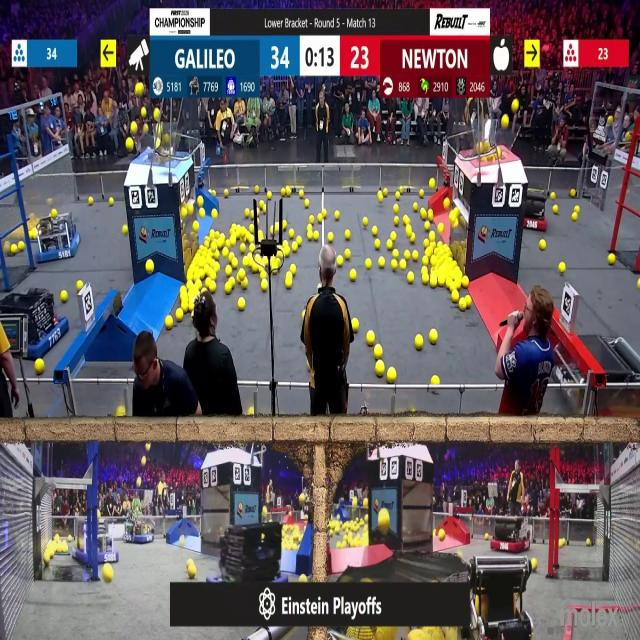ball_airborne: (136, 84, 144, 98), (127, 138, 135, 151), (513, 100, 520, 113), (501, 114, 508, 127), (131, 121, 138, 133), (153, 109, 159, 121), (140, 456, 147, 466), (140, 108, 147, 117), (155, 138, 161, 146), (137, 479, 142, 488), (299, 493, 304, 502), (143, 126, 148, 134)
ball_ground: (103, 564, 113, 581), (376, 360, 386, 375), (387, 366, 396, 381), (35, 359, 44, 373), (365, 332, 373, 347), (416, 336, 424, 351), (271, 260, 281, 272), (187, 564, 195, 578), (375, 346, 383, 359), (146, 262, 154, 275), (285, 276, 292, 290), (429, 332, 437, 344), (238, 300, 246, 312), (238, 269, 246, 281), (167, 316, 174, 329), (447, 280, 456, 290), (452, 290, 460, 301), (262, 281, 270, 292), (429, 277, 437, 288), (116, 408, 124, 419), (379, 256, 386, 268), (352, 318, 358, 332), (408, 273, 415, 285), (176, 310, 183, 322), (224, 282, 231, 294), (531, 559, 538, 571), (210, 281, 217, 293), (420, 208, 427, 220), (43, 553, 50, 565), (282, 240, 290, 250), (391, 261, 398, 272), (243, 255, 250, 266), (450, 213, 457, 224), (422, 275, 428, 287), (465, 295, 471, 307), (187, 302, 193, 314), (428, 233, 436, 242), (431, 376, 438, 386), (338, 256, 345, 266), (364, 261, 371, 271), (459, 301, 466, 311), (259, 270, 266, 280), (283, 248, 290, 258), (439, 276, 446, 286), (198, 198, 205, 208), (247, 234, 254, 244), (210, 241, 217, 251), (608, 253, 614, 264), (539, 240, 545, 251), (350, 271, 356, 282), (413, 250, 419, 261), (62, 290, 68, 301), (200, 269, 206, 280), (298, 574, 306, 582), (229, 278, 237, 286), (210, 272, 217, 281), (213, 250, 220, 259), (456, 280, 463, 289), (559, 264, 565, 274), (290, 266, 296, 276), (399, 261, 405, 271), (242, 280, 248, 290), (387, 240, 393, 250), (462, 278, 468, 288), (327, 234, 333, 244), (345, 250, 351, 260), (445, 200, 451, 210), (314, 232, 320, 242), (375, 240, 381, 250), (76, 280, 82, 290), (252, 264, 258, 274), (288, 230, 294, 240), (403, 250, 409, 260), (225, 267, 231, 277), (291, 240, 297, 250), (427, 210, 433, 220), (17, 242, 23, 252), (233, 257, 239, 267), (222, 247, 228, 257), (200, 208, 206, 218), (186, 272, 192, 282), (10, 244, 16, 254), (429, 178, 435, 188), (440, 530, 446, 540), (264, 256, 270, 266), (187, 205, 193, 215), (254, 254, 260, 264), (194, 280, 201, 288), (362, 576, 370, 583), (180, 285, 187, 293), (121, 224, 127, 233), (362, 217, 368, 226), (570, 188, 576, 197), (393, 216, 399, 225), (308, 232, 314, 241), (241, 244, 247, 253), (393, 205, 399, 214), (244, 208, 250, 217), (248, 409, 254, 418), (392, 249, 398, 258), (192, 221, 198, 230), (186, 280, 192, 289), (440, 223, 446, 232), (258, 201, 264, 210), (275, 222, 281, 231), (231, 238, 237, 247), (560, 537, 566, 546), (217, 240, 223, 249), (371, 225, 376, 235), (180, 536, 185, 546), (403, 215, 408, 225), (379, 192, 384, 202), (317, 215, 324, 222), (411, 235, 417, 243), (212, 210, 218, 218), (108, 199, 114, 207), (423, 256, 429, 264), (298, 190, 304, 198), (394, 191, 400, 199), (413, 204, 419, 212), (214, 265, 220, 273), (277, 250, 283, 258), (551, 191, 557, 199), (309, 215, 315, 223), (430, 256, 436, 264), (204, 280, 210, 288), (224, 240, 230, 248), (269, 224, 275, 232), (422, 267, 428, 275), (346, 231, 351, 240), (424, 221, 429, 230), (391, 233, 396, 242), (336, 211, 341, 220), (249, 223, 254, 232), (363, 498, 368, 507), (424, 248, 430, 255), (308, 223, 314, 230), (286, 188, 292, 195), (554, 206, 559, 214), (572, 213, 577, 221), (268, 190, 273, 198), (424, 240, 429, 248), (258, 232, 262, 242), (282, 220, 287, 228), (249, 244, 254, 252), (407, 224, 412, 232), (254, 185, 259, 193), (587, 538, 592, 546), (250, 210, 255, 218), (51, 210, 56, 218), (296, 237, 300, 246), (485, 533, 490, 540), (90, 198, 94, 206), (306, 200, 310, 208), (322, 210, 326, 218), (636, 280, 640, 288), (384, 188, 388, 196), (210, 231, 214, 239), (574, 206, 579, 212), (420, 189, 424, 196), (224, 190, 228, 197), (256, 209, 260, 216), (338, 541, 342, 548), (282, 188, 286, 195)
goal: (467, 122, 522, 160), (126, 128, 187, 160)
robot_blue: (215, 524, 291, 621), (0, 288, 67, 358), (36, 213, 80, 264), (124, 516, 155, 544)
robot_red: (466, 554, 535, 640), (552, 337, 614, 413), (494, 515, 533, 552), (523, 187, 548, 231)
